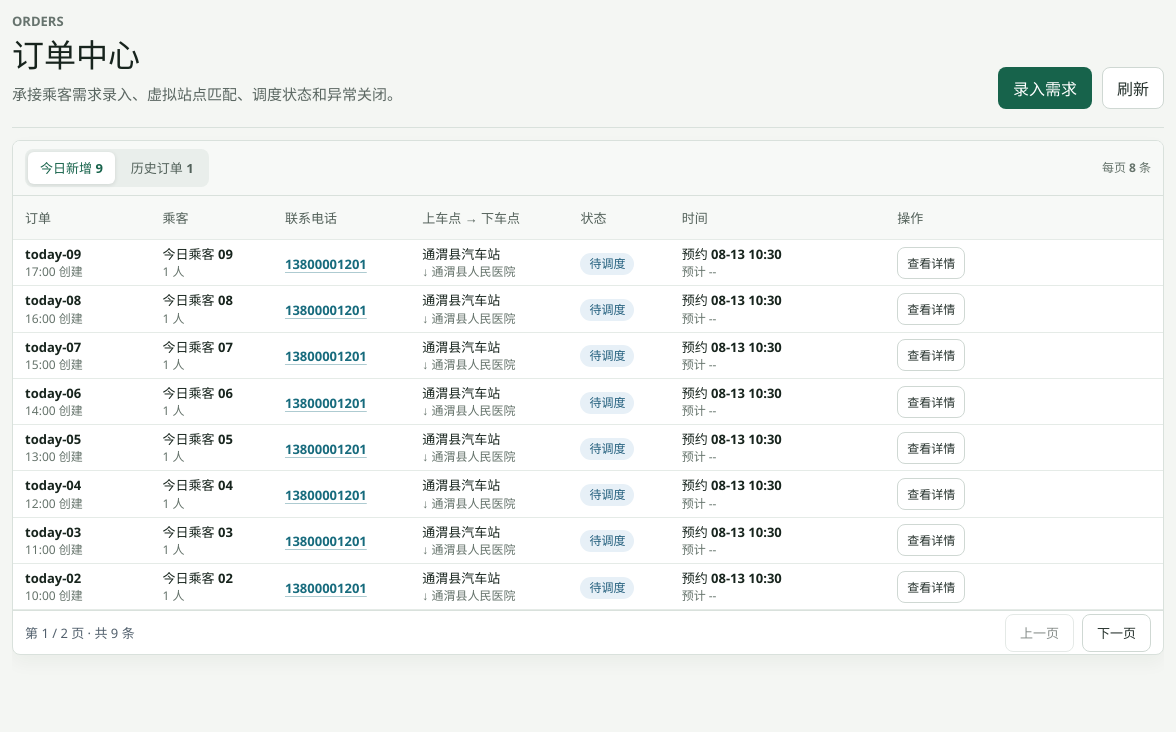
Test case: OrdersPage › 每页仅显示八条订单并分别保留两个分区的页码
This screenshot has width=1176, height=732.
Check: the text "第 1 / 2 页 · 共 9 条" is shown, box [25,623,135,642]
What coordinates should you click on to do the following:
click the button "下一页"
I would click on:
 (1116, 633)
Its box is [1082,614,1151,652].
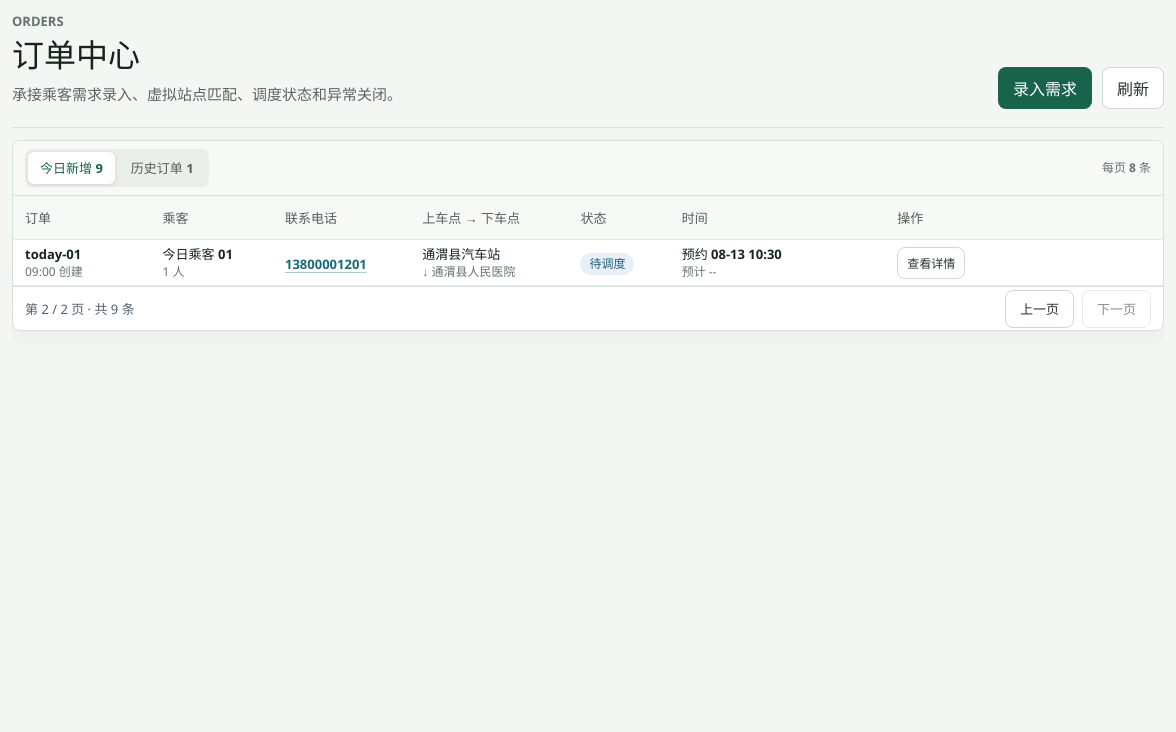
Check: the text "第 2 / 2 页 · 共 9 条" is shown, box [25,299,135,318]
Check: the text "今日乘客 01" is shown, box [163,245,233,263]
What coordinates should you click on to do the following:
click the button "历史订单 1"
I would click on:
 (162, 168)
Its box is [119,152,206,184].
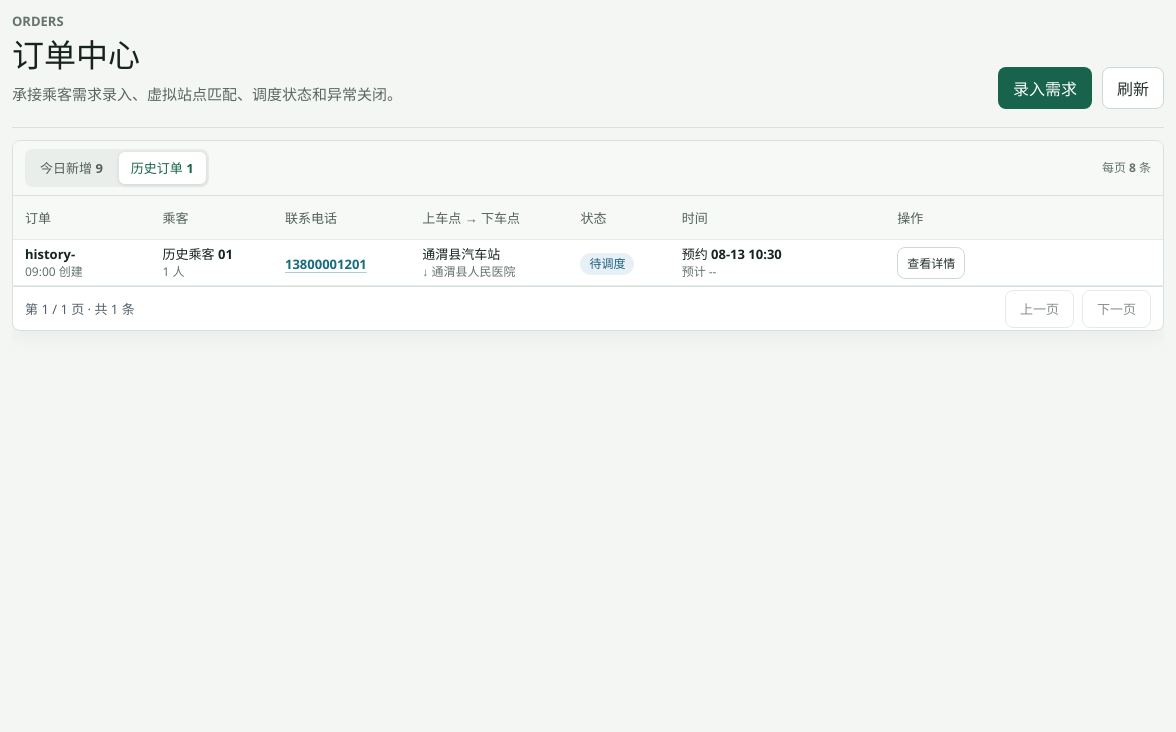
Check: the text "第 1 / 1 页 · 共 1 条" is shown, box [25,299,135,318]
Check: the text "历史乘客 01" is shown, box [163,245,233,263]
What coordinates should you click on to do the following:
click the button "今日新增 9"
I would click on:
 (71, 168)
Its box is [28,152,115,184].
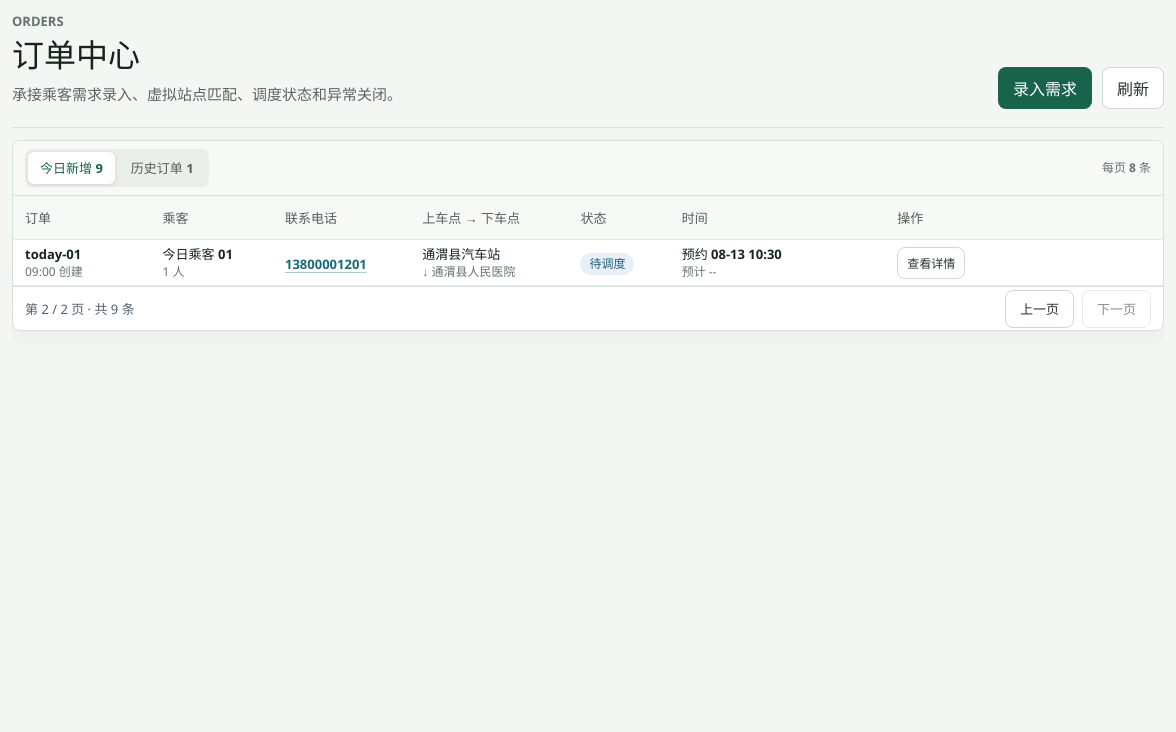
Check: the text "第 2 / 2 页 · 共 9 条" is shown, box [25,299,135,318]
